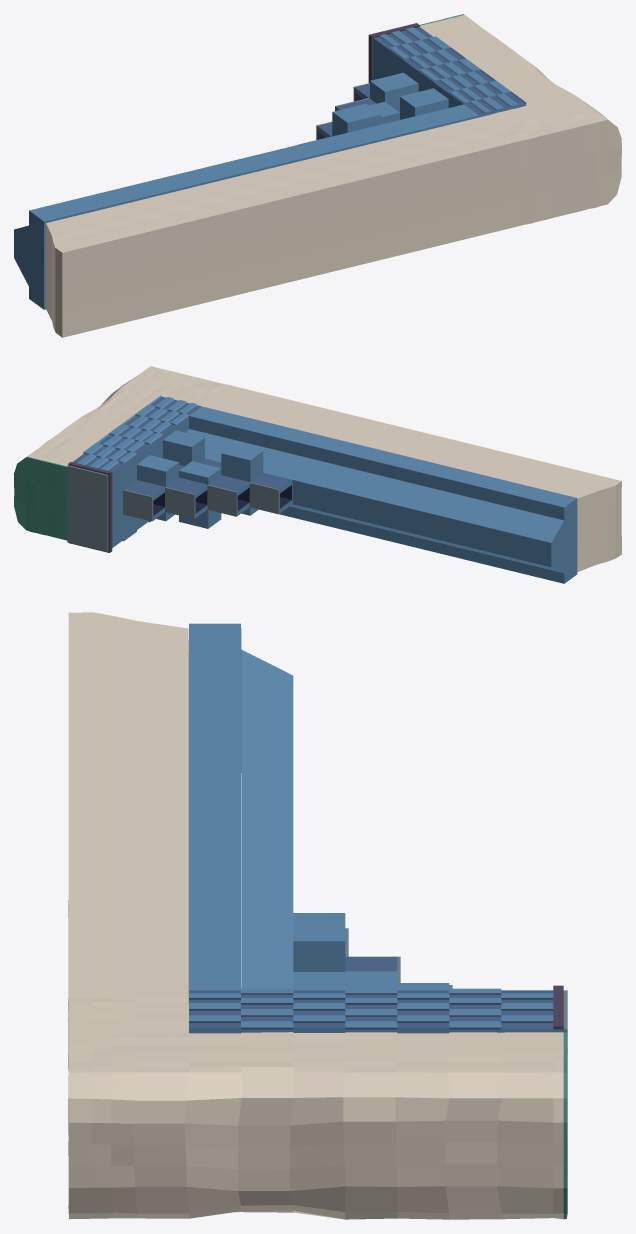
File: contra_level_5_ground.fbx
The picture shows the model from 3 angles, top to bottom: view 1: azimuth 30°, elevation 25°; view 2: azimuth 150°, elevation 25°; view 3: azimuth 270°, elevation 25°; orthographic projection. The views are drawn at different scales.
Visible parts, largest first — view 1: HugeCliff, HugePlatform; view 2: HugePlatform, HugeCliff; view 3: HugeCliff, HugePlatform.
Boxes of the visible parts, left/top/right/bottom form: HugeCliff: left=45, top=14, right=621, bottom=337; HugePlatform: left=14, top=23, right=526, bottom=309; HugePlatform: left=67, top=395, right=577, bottom=583; HugeCliff: left=14, top=366, right=621, bottom=571; HugeCliff: left=68, top=612, right=567, bottom=1219; HugePlatform: left=189, top=623, right=567, bottom=1145.
Size of the model in its own units: 33183 by 5200 by 14834.
